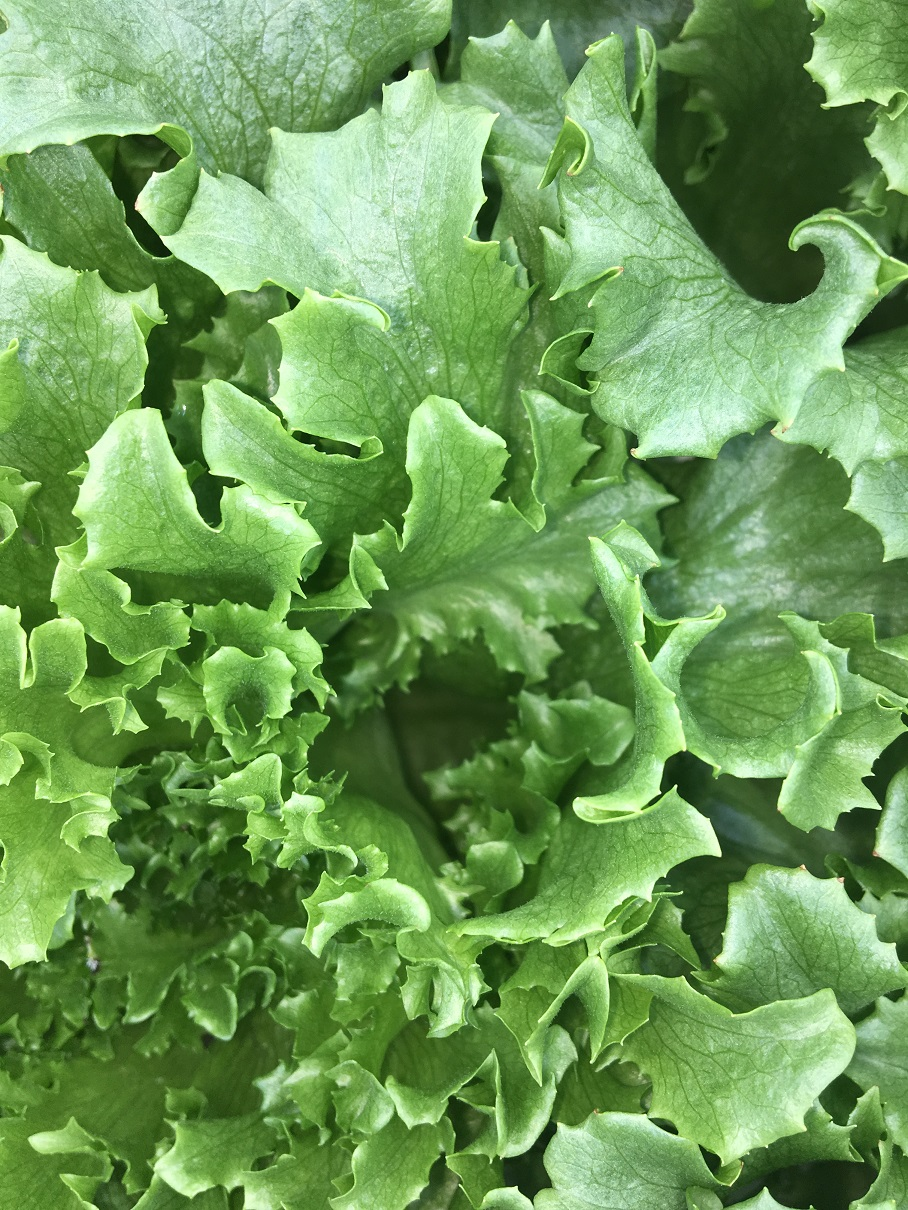tipburn: (774, 844, 817, 888), (548, 153, 591, 193), (611, 431, 652, 472), (819, 857, 860, 898), (599, 250, 639, 292), (857, 834, 896, 874), (765, 407, 805, 445), (815, 204, 844, 232), (735, 1151, 761, 1180), (588, 1101, 614, 1125)
